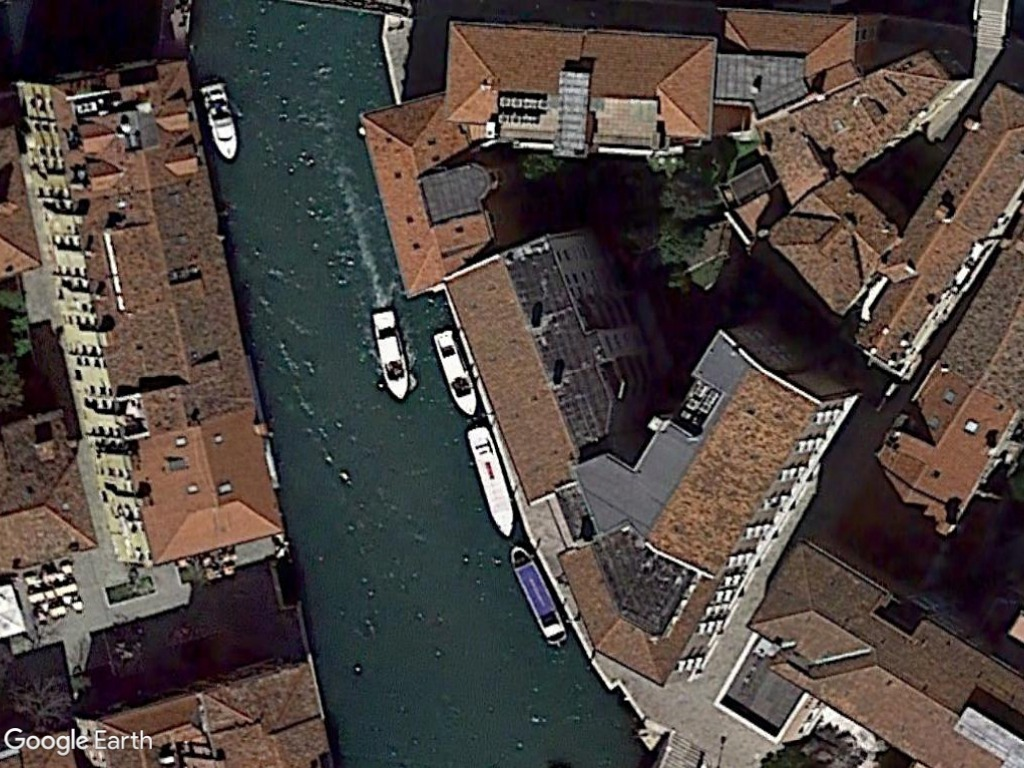boat: (505, 544, 569, 650), (464, 423, 515, 542), (427, 324, 482, 418), (369, 307, 412, 404), (196, 76, 242, 166)
